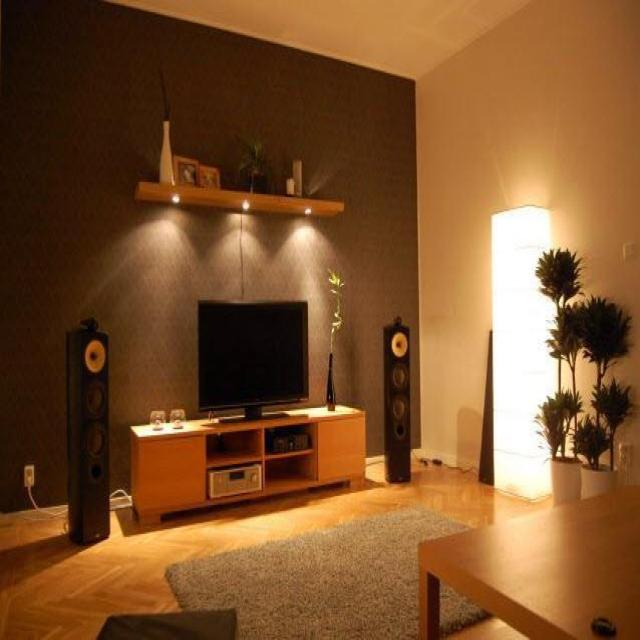other: (477, 196, 568, 506)
